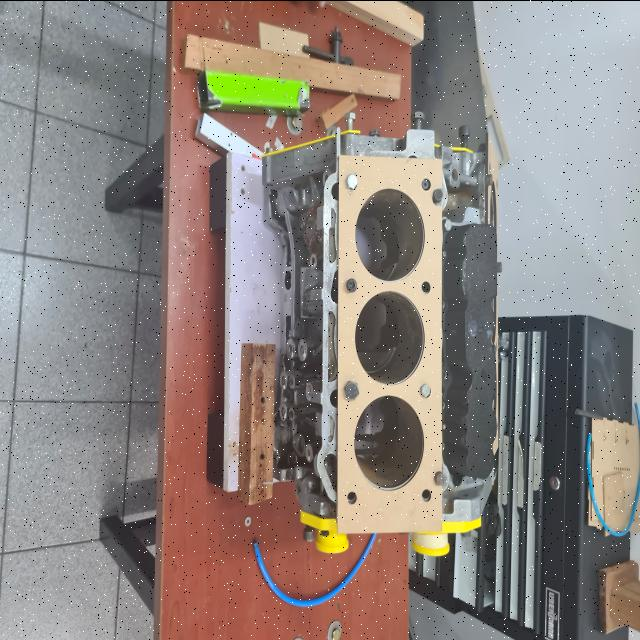vista1: (337, 154, 443, 533)
